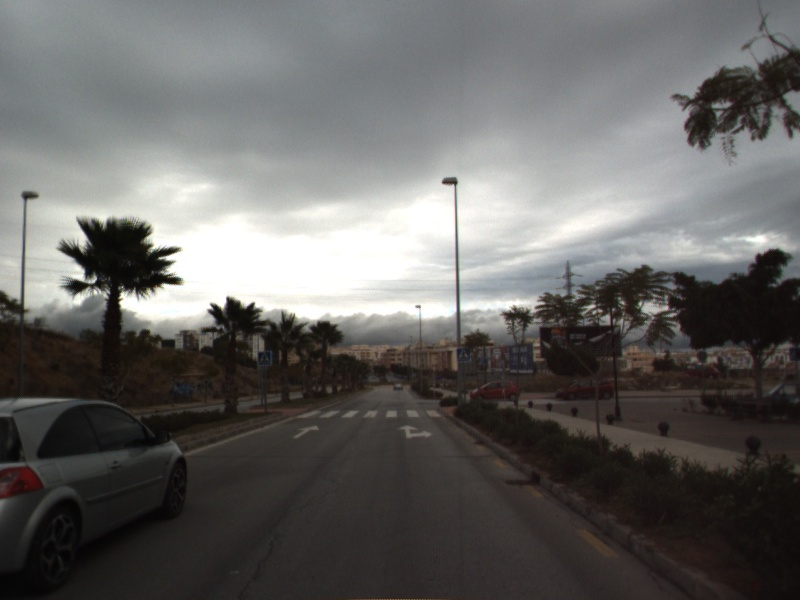STRAIGHT: (291, 422, 322, 440)
STRAIGHT_RIGHT: (395, 423, 434, 440)
